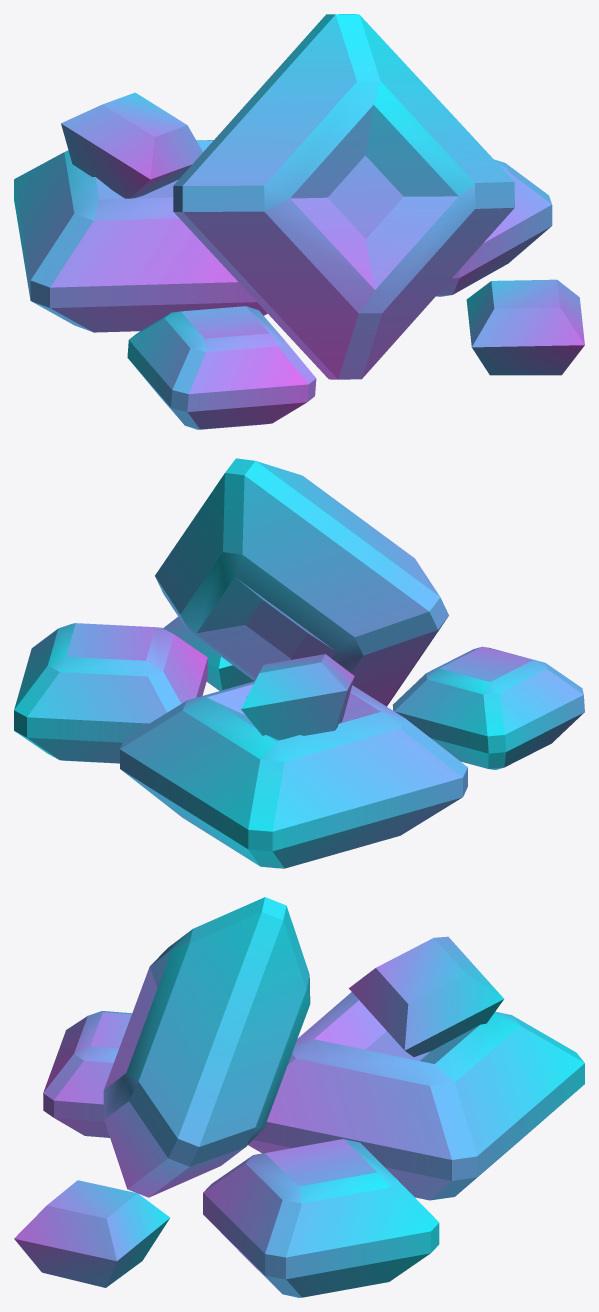
The model's file is gems_pile_small.glb.
The picture shows the model from 3 angles, top to bottom: view 1: azimuth 30°, elevation 25°; view 2: azimuth 150°, elevation 25°; view 3: azimuth 270°, elevation 25°; orthographic projection. The views are drawn at different scales.
Visible parts, largest first — view 1: Gems_Pile_Small; view 2: Gems_Pile_Small; view 3: Gems_Pile_Small.
Boxes of the visible parts, bbox=[...] form: Gems_Pile_Small: bbox=[14, 14, 584, 429]; Gems_Pile_Small: bbox=[14, 458, 584, 868]; Gems_Pile_Small: bbox=[14, 897, 584, 1297].
Size of the model in its own units: 1.05 by 0.6485 by 1.05.
1 material, 1 textured.
